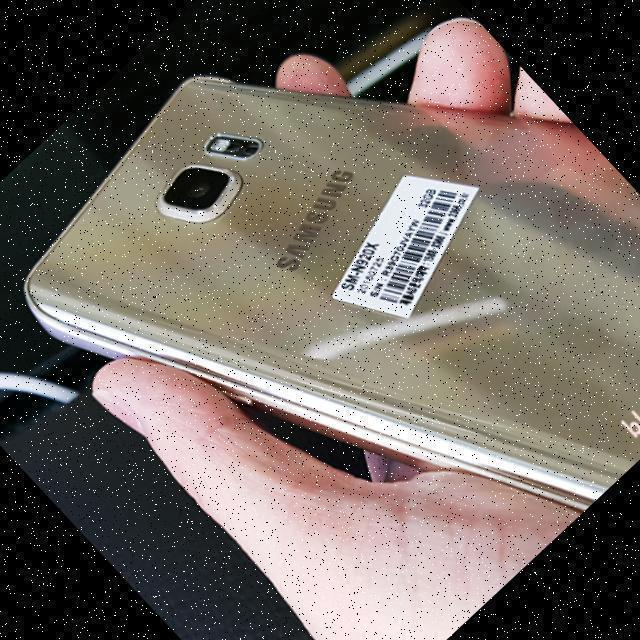smart phone: (35, 57, 640, 520)
